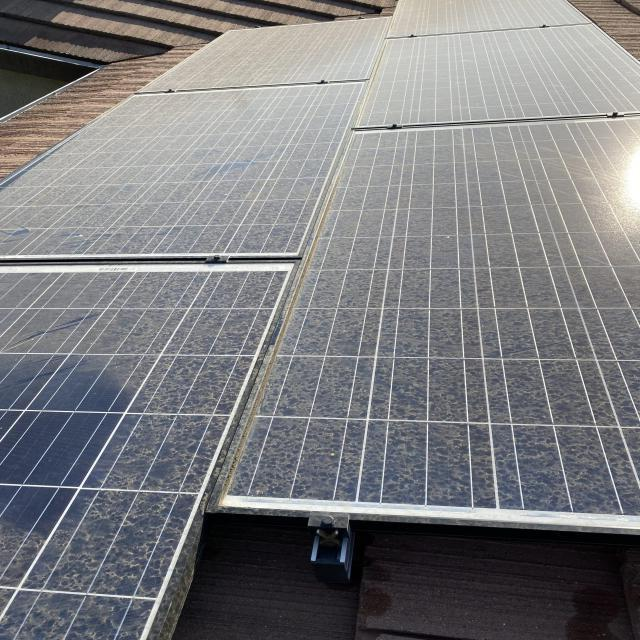soiled: (0, 22, 369, 640), (222, 2, 634, 516)
